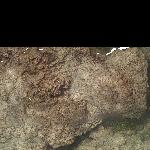dead: (2, 42, 148, 148)
